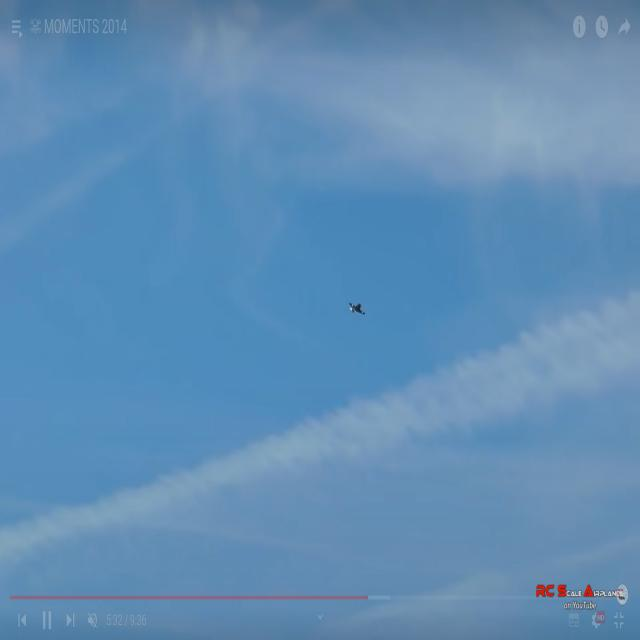iha: (348, 300, 366, 317)
